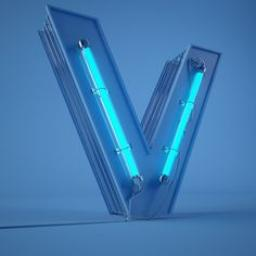v: (34, 1, 226, 225)
